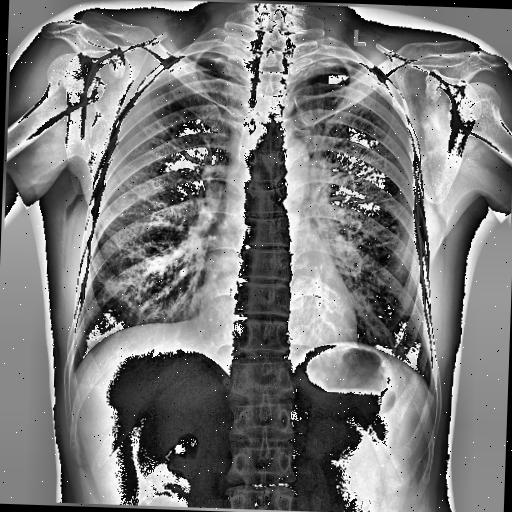11- Pleural thickening: (194, 50, 230, 62)
5- ILD: (316, 153, 407, 345), (91, 148, 184, 330), (114, 142, 206, 321), (338, 140, 418, 338), (111, 148, 197, 318), (330, 172, 406, 307)
9- Other lesion: (111, 148, 197, 318), (330, 172, 406, 307)
